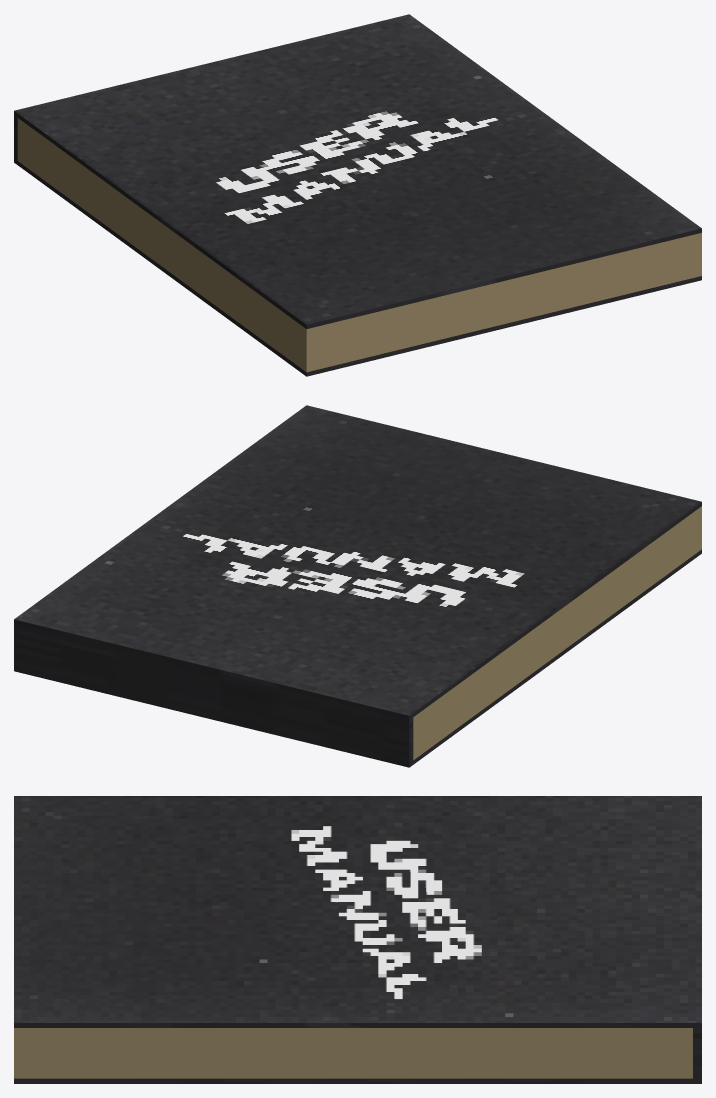
Rendered from USER_MANUAL_CLOSED.fbx.
The picture shows the model from 3 angles, top to bottom: view 1: azimuth 30°, elevation 25°; view 2: azimuth 150°, elevation 25°; view 3: azimuth 270°, elevation 25°; orthographic projection. The views are drawn at different scales.
Parts seen in each view (by area): view 1: USER_MANUAL_CLOSED; view 2: USER_MANUAL_CLOSED; view 3: USER_MANUAL_CLOSED.
Part boxes in pixels (box(x1,y1,x2,y2)): USER_MANUAL_CLOSED: box(14, 14, 701, 376); USER_MANUAL_CLOSED: box(14, 405, 701, 767); USER_MANUAL_CLOSED: box(14, 796, 701, 1083).
Size of the model in its own units: 16.85 by 2.11 by 21.59.
Materials: 2 (1 with a texture image).
